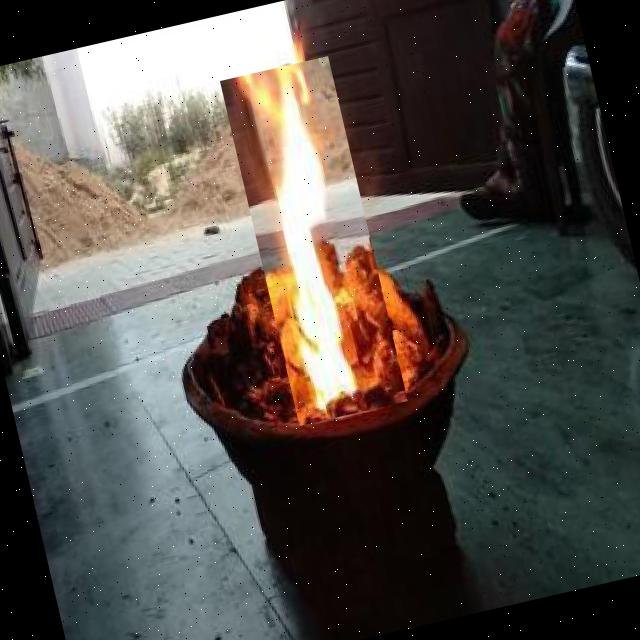fire: (220, 56, 408, 426)
